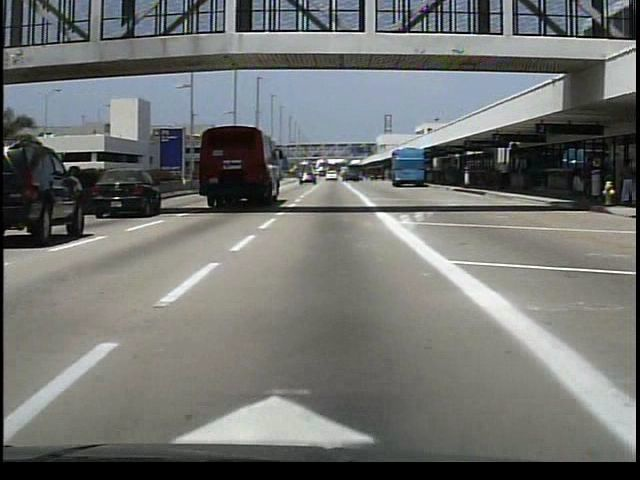person: (502, 161, 515, 192)
